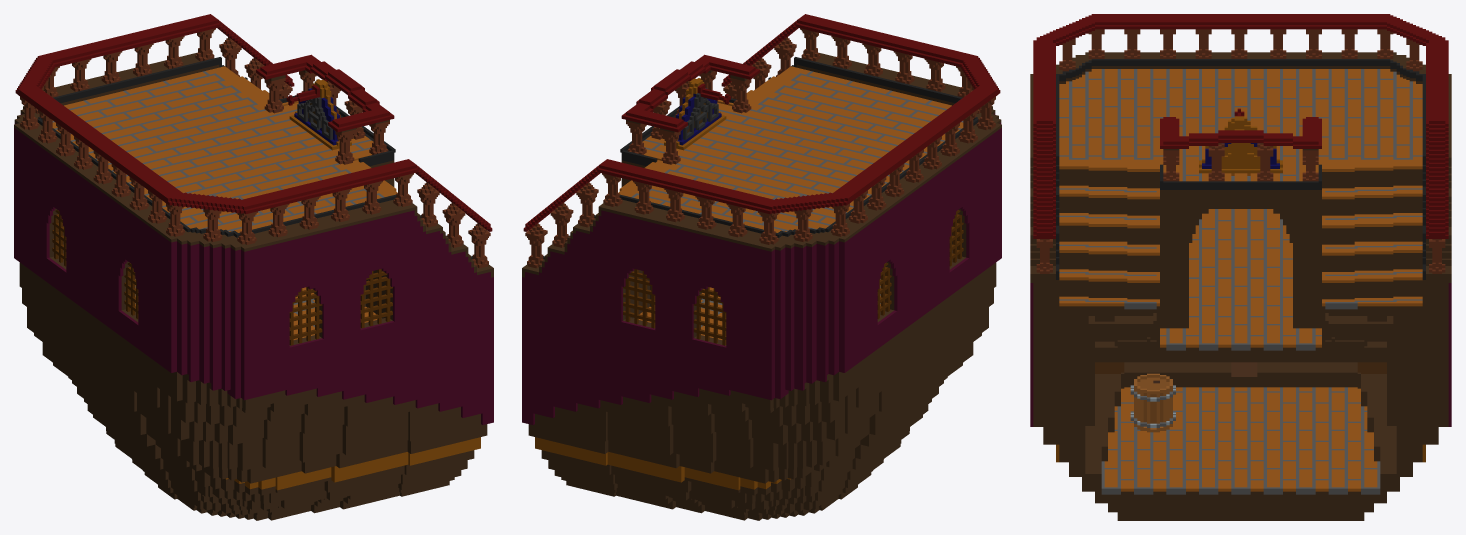
The model's file is enemyship-5.obj.
3 renders of one model, left to right at view 1: azimuth 30°, elevation 25°; view 2: azimuth 150°, elevation 25°; view 3: azimuth 270°, elevation 25°, orthographic.
Size of the model in its own units: 10.4 by 12.6 by 13.
Materials: 1 (1 with a texture image).
